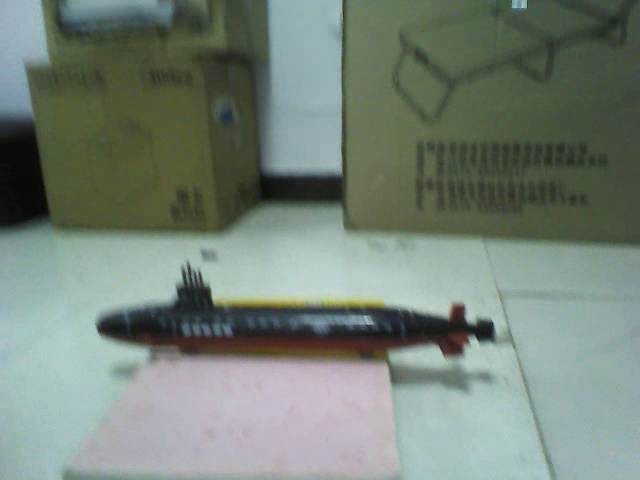submarine: (94, 268, 497, 366)
